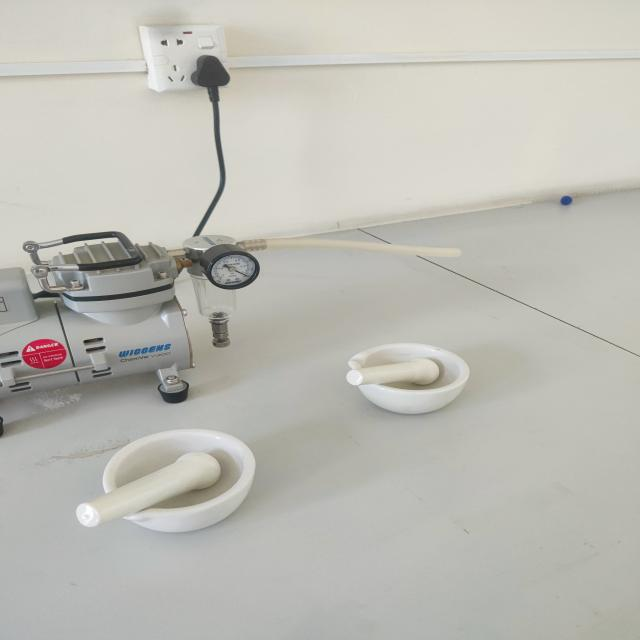Porcelain_Mortar Pestle: (58, 416, 284, 558), (316, 325, 499, 426)
